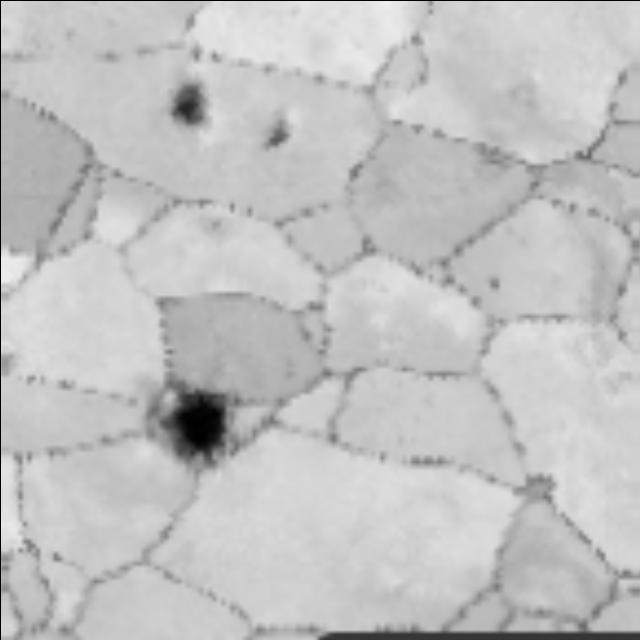good_void: (127, 349, 286, 509), (459, 116, 537, 198), (161, 77, 221, 147), (510, 458, 567, 514), (254, 112, 290, 154), (481, 265, 510, 304)
